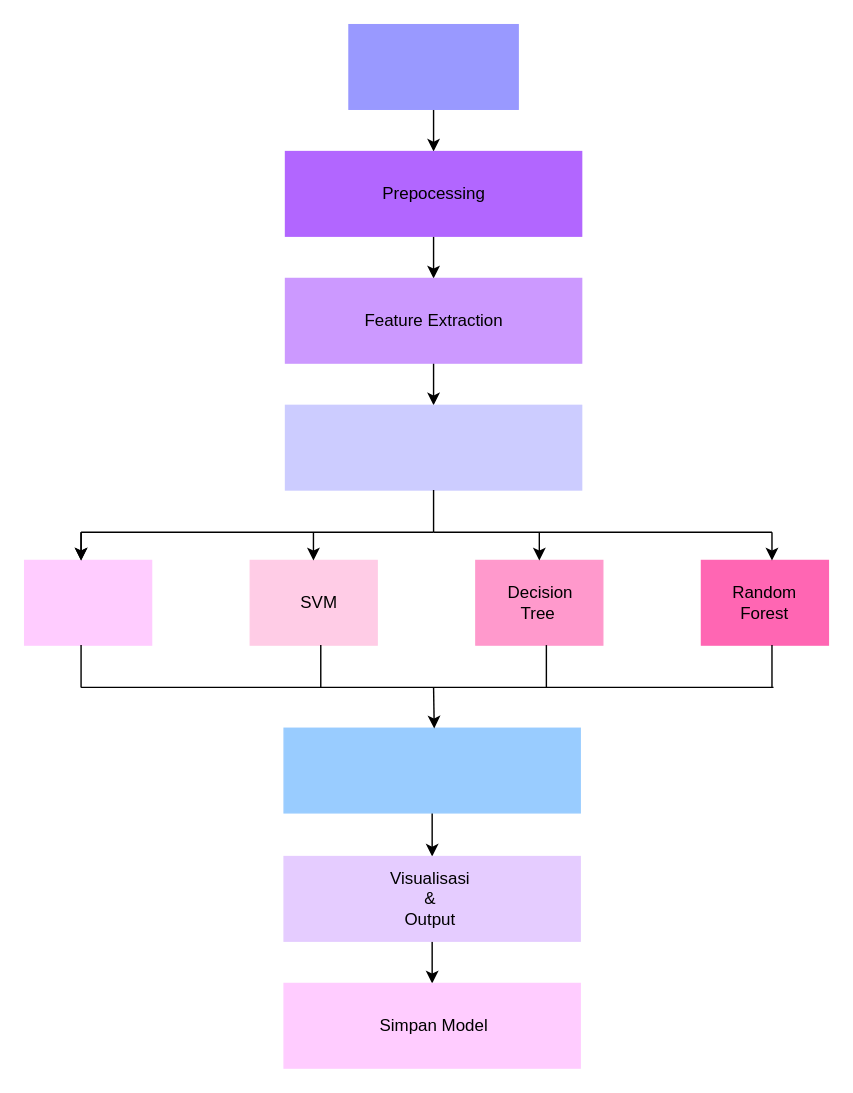
Image size: 853x1093. Some labels were removed from this diagram. Here are the shapes that lost their labels. From the top down, the centre of each, then its label:
At (433,66): "Dataset Kaggle".
At (433,447): "Split Data".
At (87,602): "CNN".
At (431,770): "Evaluasi Model".
